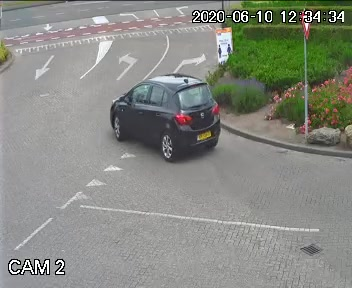car: (95, 69, 233, 159)
